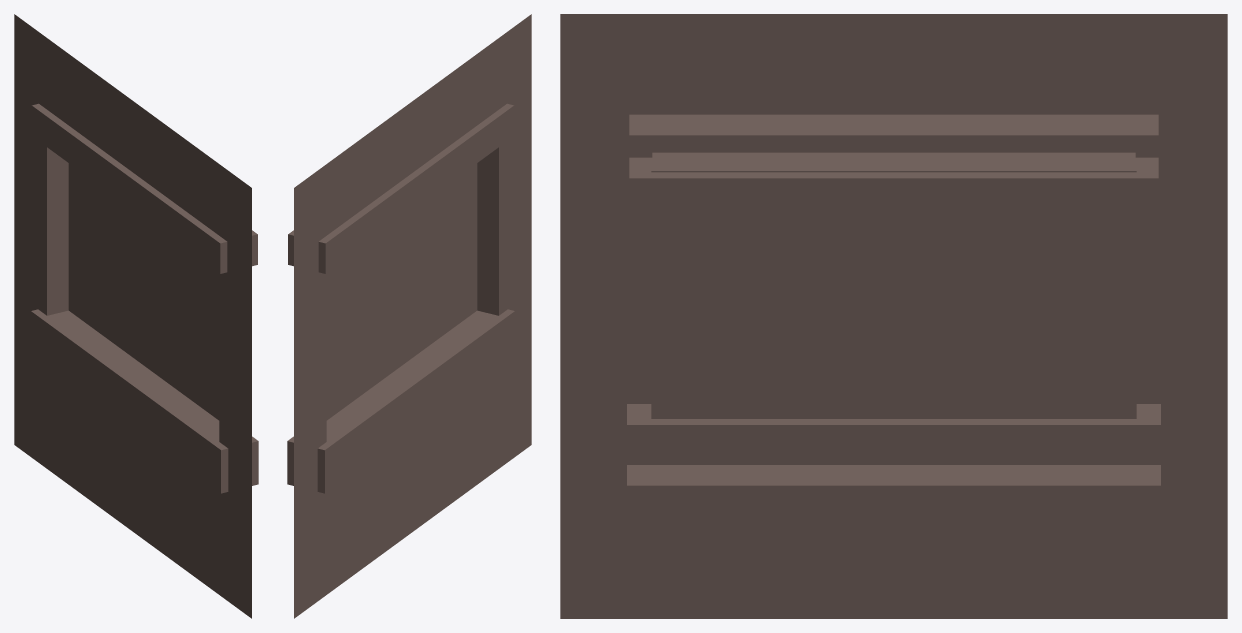
File: Building_Windows_03.fbx
The picture shows the model from 3 angles, left to right: view 1: azimuth 30°, elevation 25°; view 2: azimuth 150°, elevation 25°; view 3: azimuth 270°, elevation 25°; orthographic projection. The views are drawn at different scales.
Parts seen in each view (by area): view 1: Building_Windows_03; view 2: Building_Windows_03; view 3: Building_Windows_03.
Boxes of the visible parts, x1,y1,x2,y2 form: Building_Windows_03: (14,14,258,618); Building_Windows_03: (287,14,531,618); Building_Windows_03: (560,14,1227,618).
Size of the model in its own units: 0.2733 by 3 by 3.
